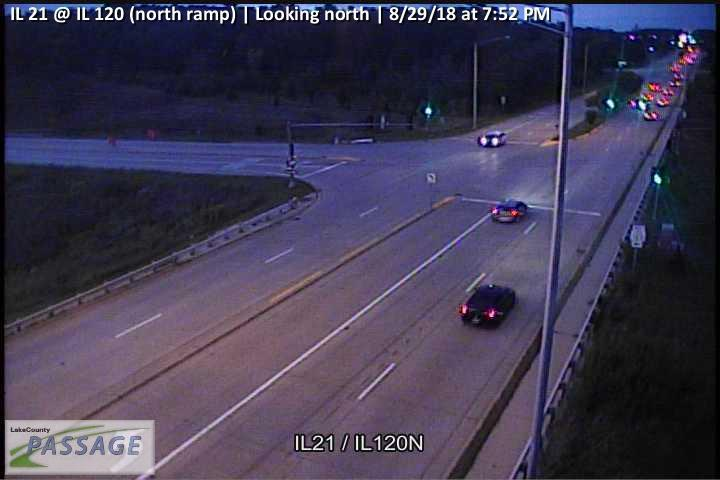SUV: (477, 130, 506, 148)
Sedan: (456, 284, 516, 329), (492, 199, 527, 223)
